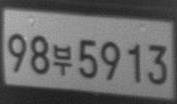1: (125, 43, 147, 82)
3: (147, 44, 168, 84)
5: (78, 38, 98, 78)
8: (30, 34, 51, 75)
9: (100, 40, 121, 81), (7, 32, 27, 72)
부: (52, 43, 73, 76)
